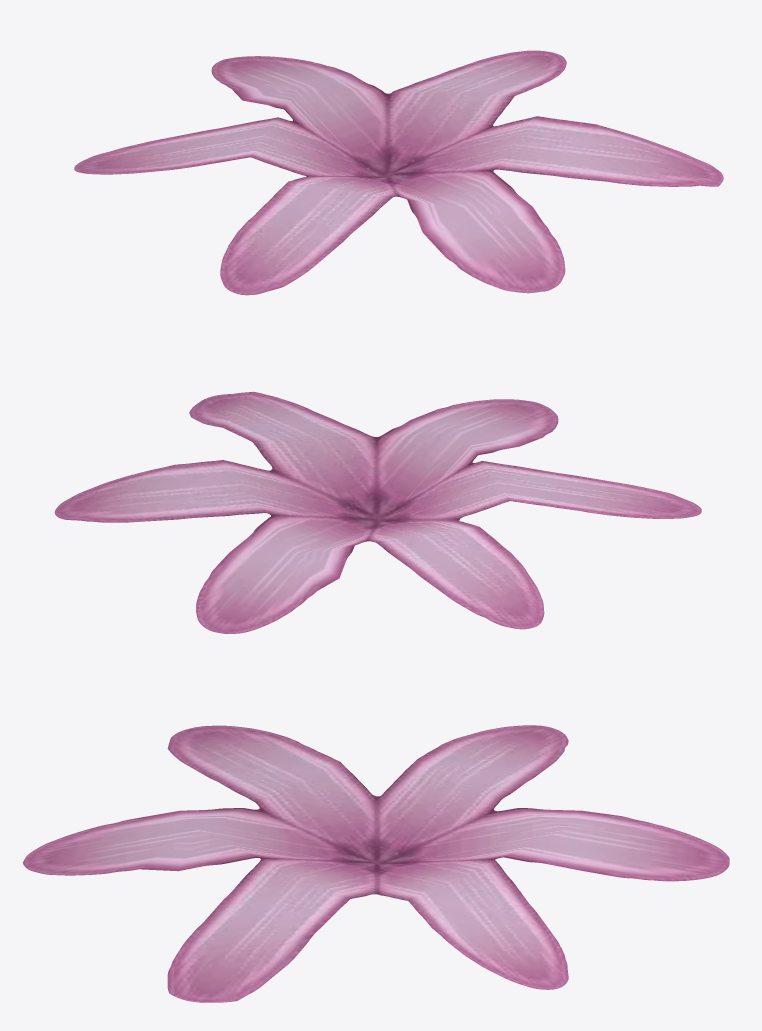
File: pm-flower-06.glb
3 views of the same model, one above another, from view 1: azimuth 30°, elevation 25°; view 2: azimuth 150°, elevation 25°; view 3: azimuth 270°, elevation 25° (orthographic). The views are drawn at different scales.
Parts seen in each view (by area): view 1: Flower06; view 2: Flower06; view 3: Flower06.
Part boxes in pixels (<box>): Flower06: <box>74,50,723,295</box>; Flower06: <box>54,391,701,633</box>; Flower06: <box>23,725,729,1002</box>.
Bounding box in the file's own units: 0.6029 × 0.0375 × 0.6029.
1 material, 1 textured.
